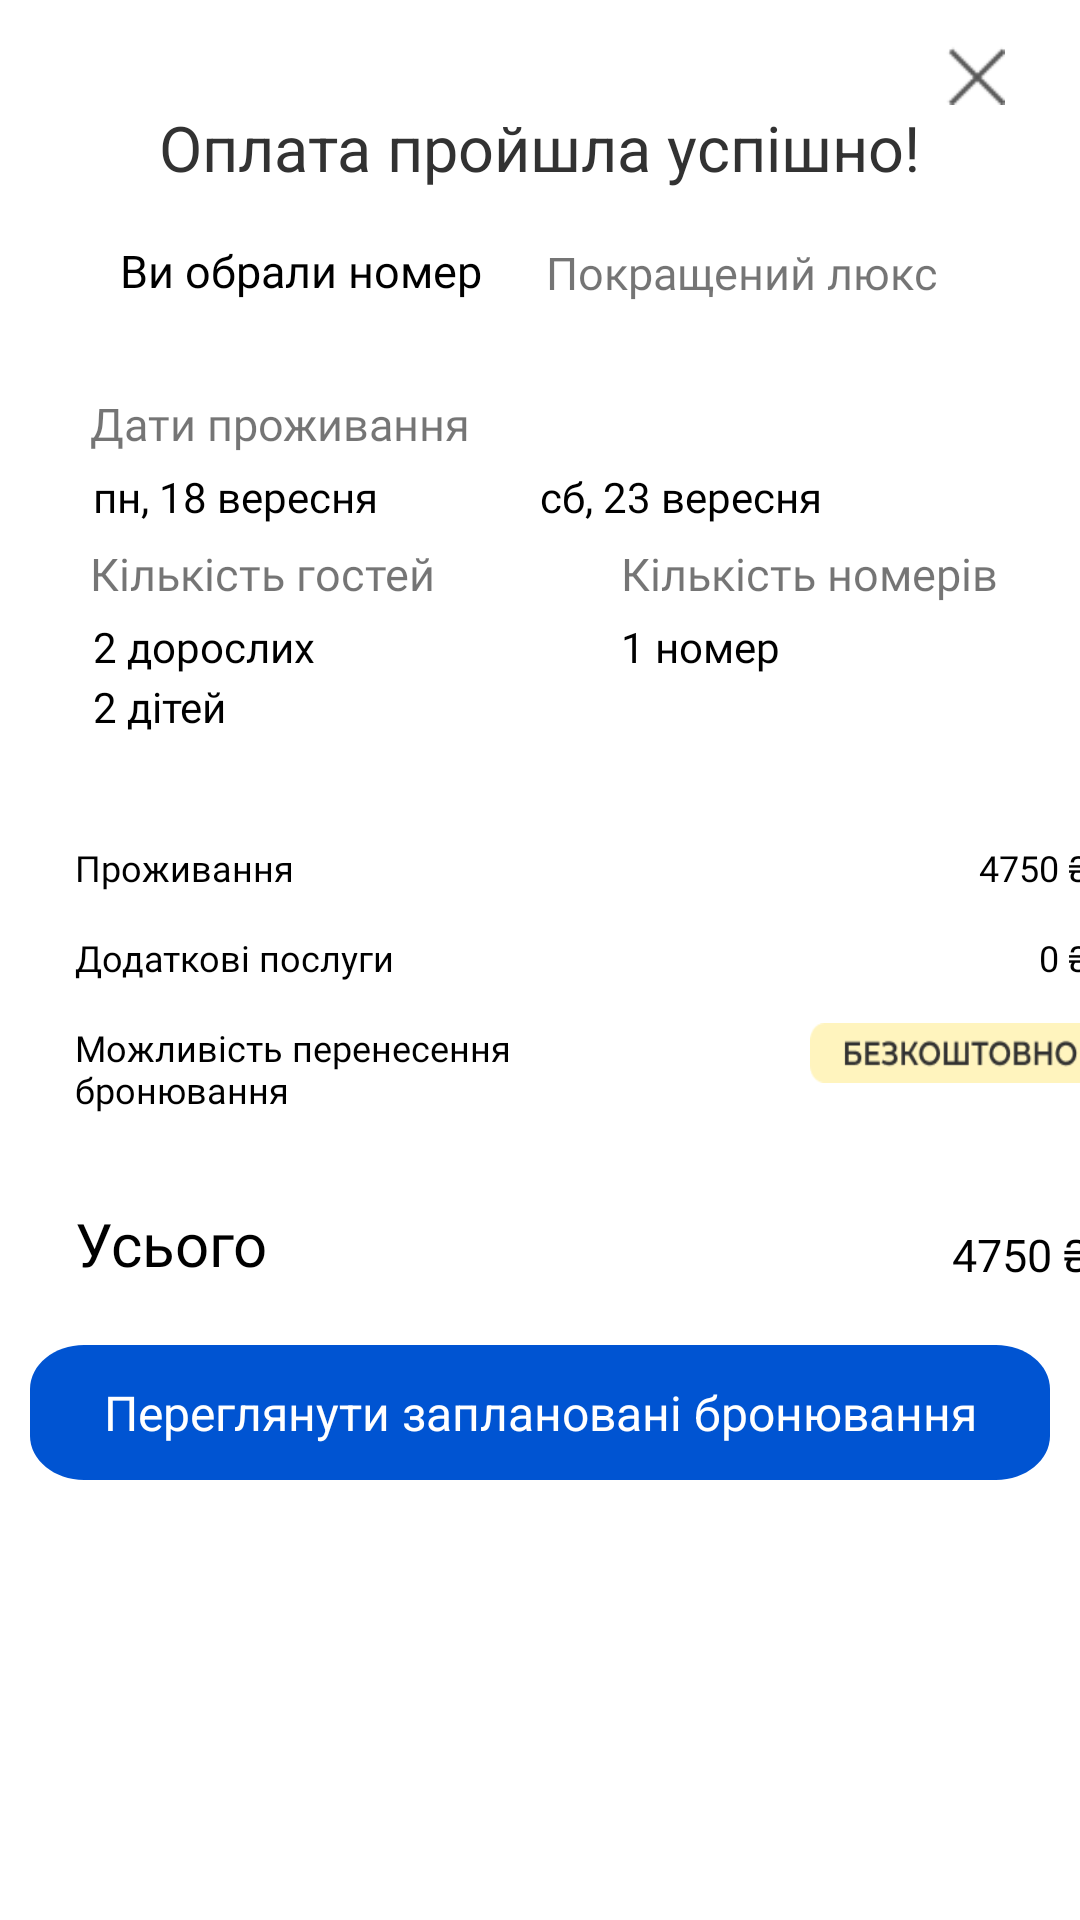

Icons on this 1080 x 1920 Android screen, each with the point to tap as [x,y]:
cross: [977,77]
